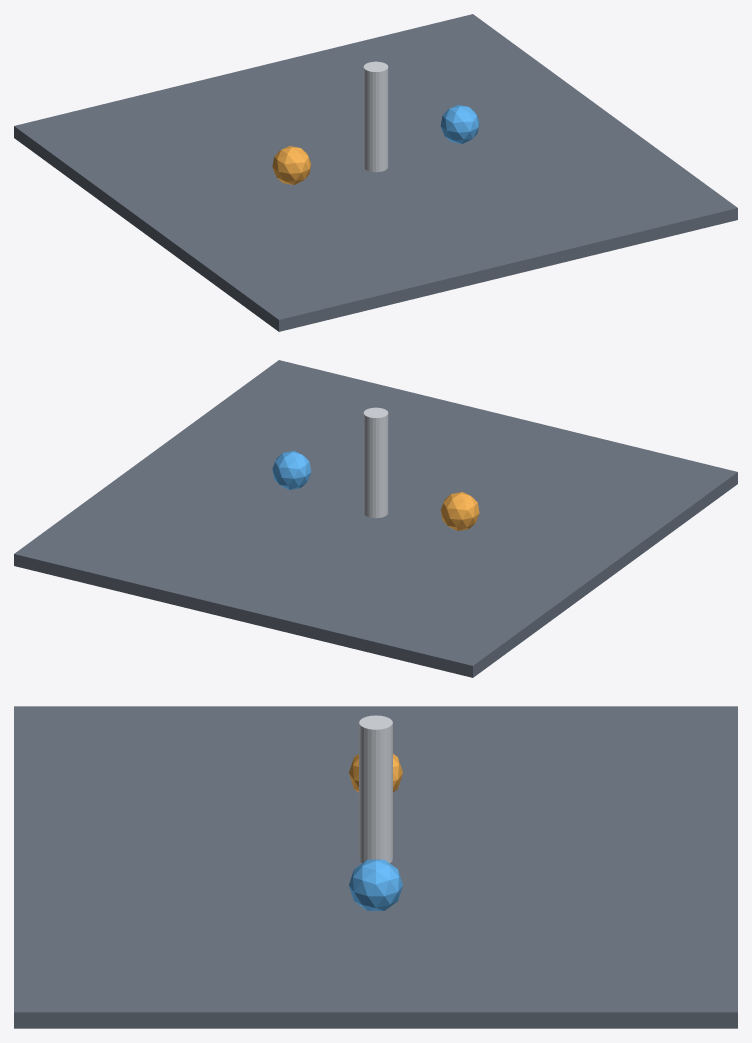
File: ConstraintPoint.glb
3 views of the same model, one above another, from view 1: azimuth 30°, elevation 25°; view 2: azimuth 150°, elevation 25°; view 3: azimuth 270°, elevation 25° (orthographic). The views are drawn at different scales.
Visible parts, largest first — view 1: Ground.001, PointPost.001, PointSphereA.001, PointSphereB.001; view 2: Ground.001, PointPost.001, PointSphereA.001, PointSphereB.001; view 3: Ground.001, PointPost.001, PointSphereB.001, PointSphereA.001.
Boxes of the visible parts, x1=… form: Ground.001: x1=14, y1=14, x2=737, y2=331; PointPost.001: x1=363, y1=61, x2=388, y2=172; PointSphereA.001: x1=272, y1=146, x2=311, y2=184; PointSphereB.001: x1=440, y1=105, x2=479, y2=143; Ground.001: x1=14, y1=360, x2=737, y2=677; PointPost.001: x1=363, y1=407, x2=388, y2=518; PointSphereA.001: x1=440, y1=492, x2=479, y2=530; PointSphereB.001: x1=272, y1=451, x2=311, y2=489; Ground.001: x1=14, y1=706, x2=737, y2=1028; PointPost.001: x1=359, y1=715, x2=392, y2=863; PointSphereB.001: x1=349, y1=859, x2=402, y2=910; PointSphereA.001: x1=349, y1=754, x2=402, y2=792.
Bounding box in the file's own units: 12 × 2.8 × 12.
